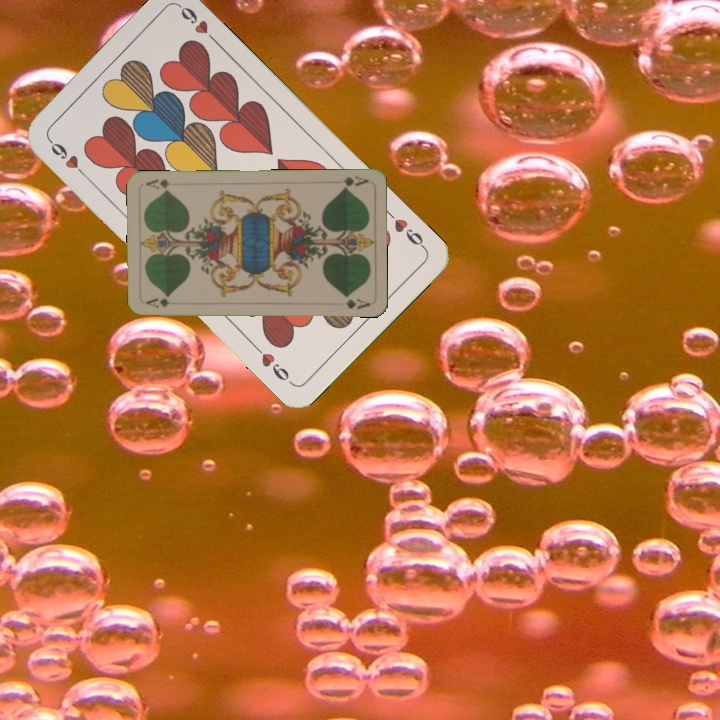GA: (142, 294, 182, 310), (339, 172, 370, 192)
H9: (44, 135, 91, 181), (382, 206, 428, 252)
